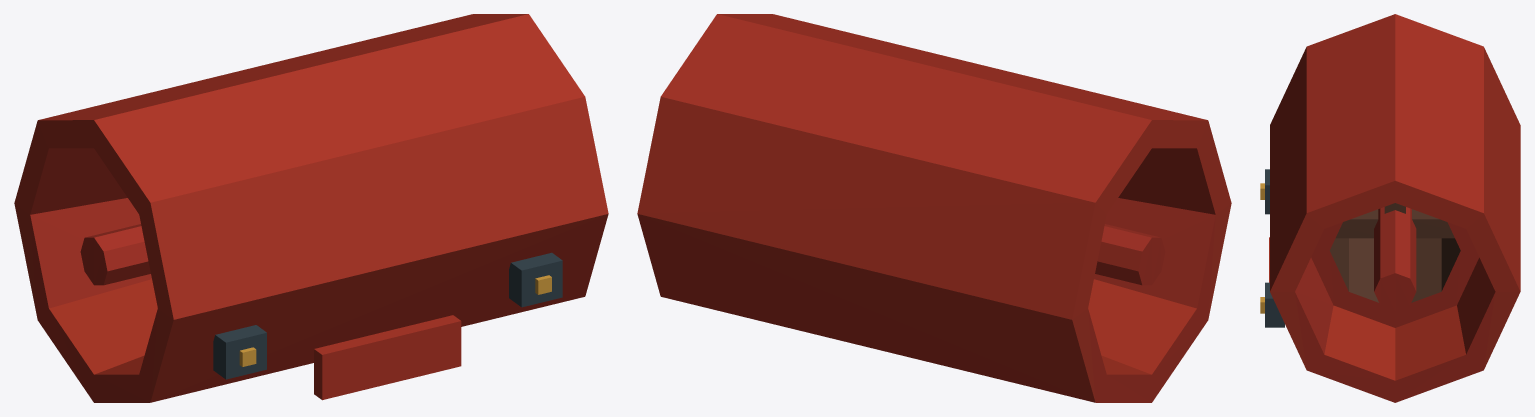
The model's file is quay-cart-coral.glb.
The picture shows the model from 3 angles, left to right: view 1: azimuth 30°, elevation 25°; view 2: azimuth 150°, elevation 25°; view 3: azimuth 270°, elevation 25°; orthographic projection. The views are drawn at different scales.
Visible parts, largest first — view 1: quay-cart-coral; view 2: quay-cart-coral; view 3: quay-cart-coral.
Part boxes in pixels (x1=…): quay-cart-coral: x1=14, y1=14, x2=608, y2=402; quay-cart-coral: x1=637, y1=14, x2=1231, y2=402; quay-cart-coral: x1=1260, y1=14, x2=1520, y2=402.
Size of the model in its own units: 1.48 by 0.92 by 0.9757.
